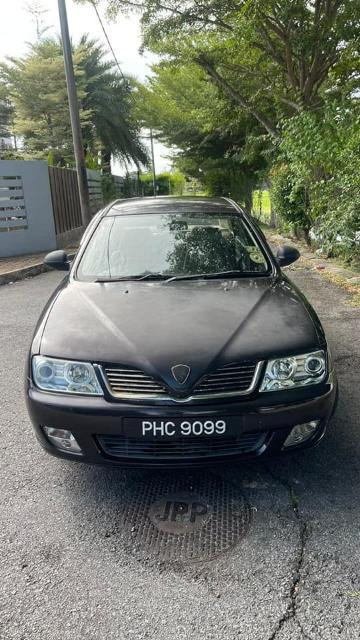License_Plate: (126, 412, 245, 446)
car: (20, 188, 338, 468)
